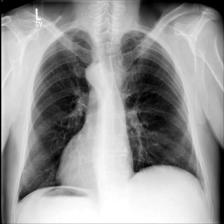normal: (13, 20, 208, 206)
